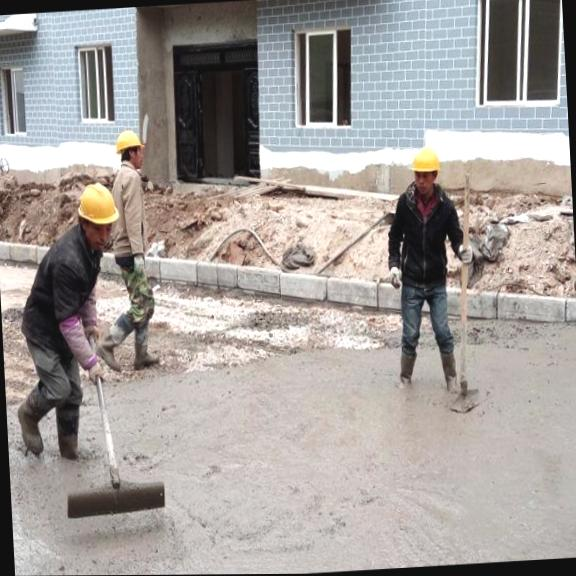no_safety_vest: (24, 238, 101, 385), (396, 196, 454, 303)
